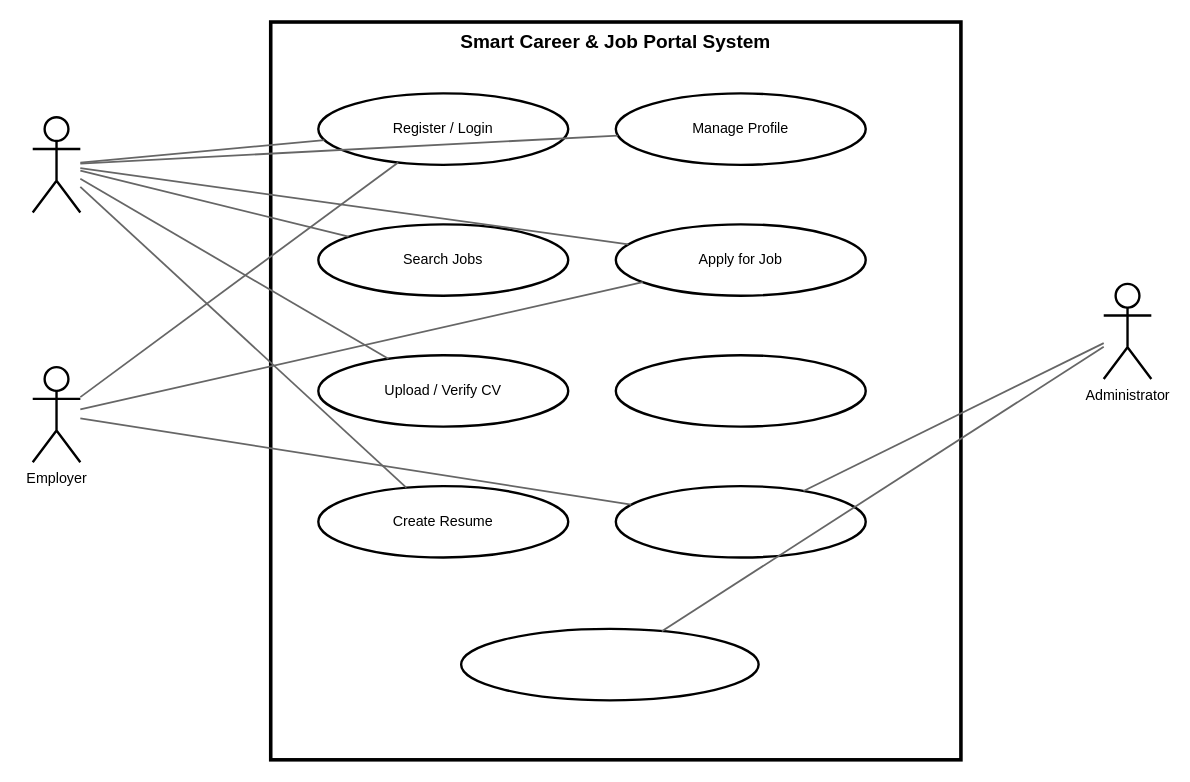
This 1190x782 diagram has some shape labels left out. The box of each missing label's shape, as (x1, y1, x2, y2) in pixels:
Get Job Recommendations: (614, 353, 866, 427)
Job Seeker: (31, 115, 81, 213)
Manage Users & Applications: (459, 627, 759, 701)
Post / Manage Jobs: (614, 484, 866, 558)
